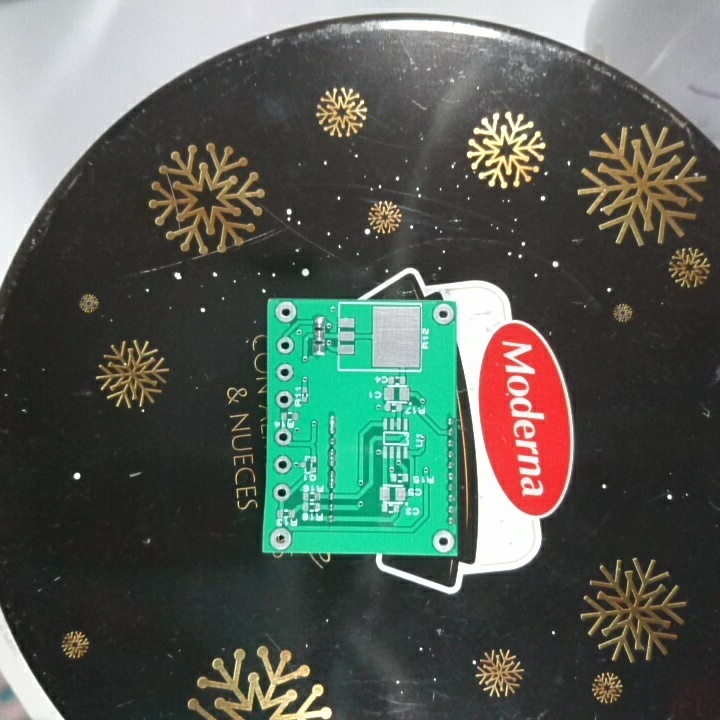F: (273, 300, 299, 326), (431, 301, 457, 327), (268, 526, 294, 549), (430, 529, 454, 553), (271, 453, 293, 477), (273, 426, 294, 449), (274, 335, 295, 356), (271, 481, 292, 502), (274, 362, 295, 382), (274, 389, 294, 409)
P: (325, 467, 338, 492), (326, 412, 339, 435), (326, 446, 338, 470)
